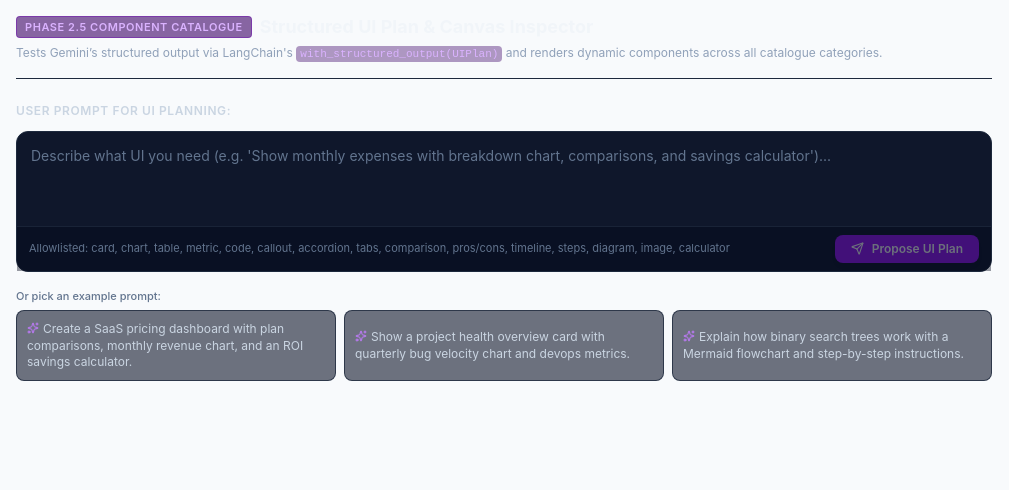
it: UIPlanInspector Component › displays error banner when plan generation fails
Replace the text in the text box with test id "plan-prompt-input" with "Trigger rate limit". click: (504, 176)
box: [17,132,991,220]
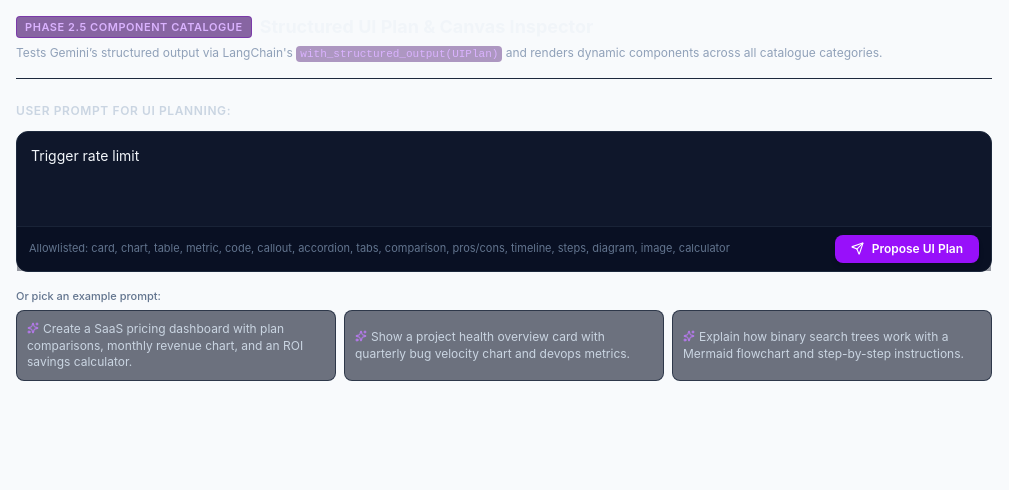
Click the button with test id "generate-plan-button". click: click(907, 249)
box: [835,235,979,263]
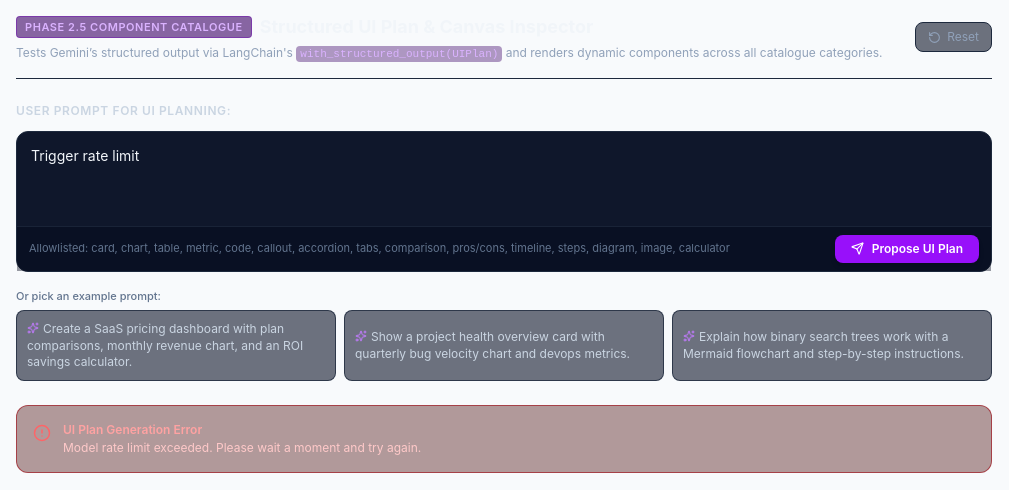
Expected: the element with test id "plan-error-banner" is shown, [16,405,992,473]
Expected: the text "Model rate limit exceeded" is shown, [63,440,421,455]
